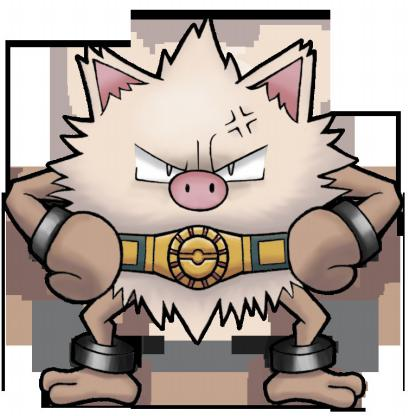Primeape: (24, 24, 412, 405)
